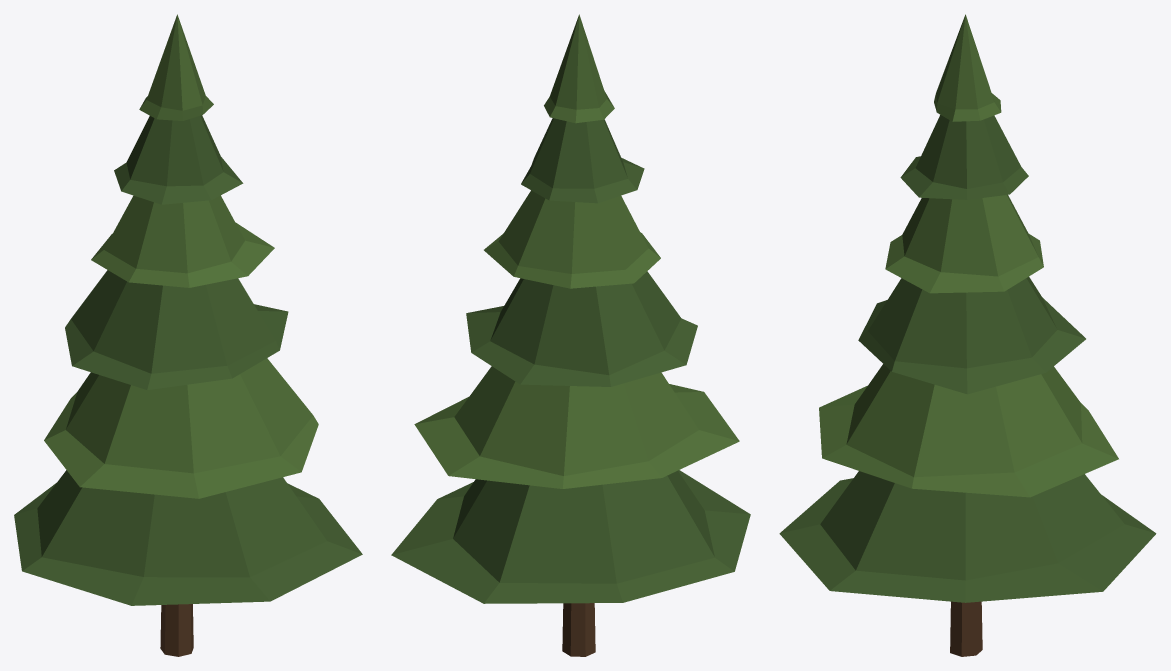
Rendered from pine.glb.
The picture shows the model from 3 angles, left to right: view 1: azimuth 30°, elevation 25°; view 2: azimuth 150°, elevation 25°; view 3: azimuth 270°, elevation 25°; orthographic projection.
Visible parts, largest first — view 1: pine; view 2: pine; view 3: pine.
Boxes of the visible parts, box(x1,y1,x2,y2) form: pine: box(14, 14, 362, 656); pine: box(391, 14, 750, 656); pine: box(779, 14, 1156, 656).
Bounding box in the file's own units: 4.01 × 8.2 × 4.41.
